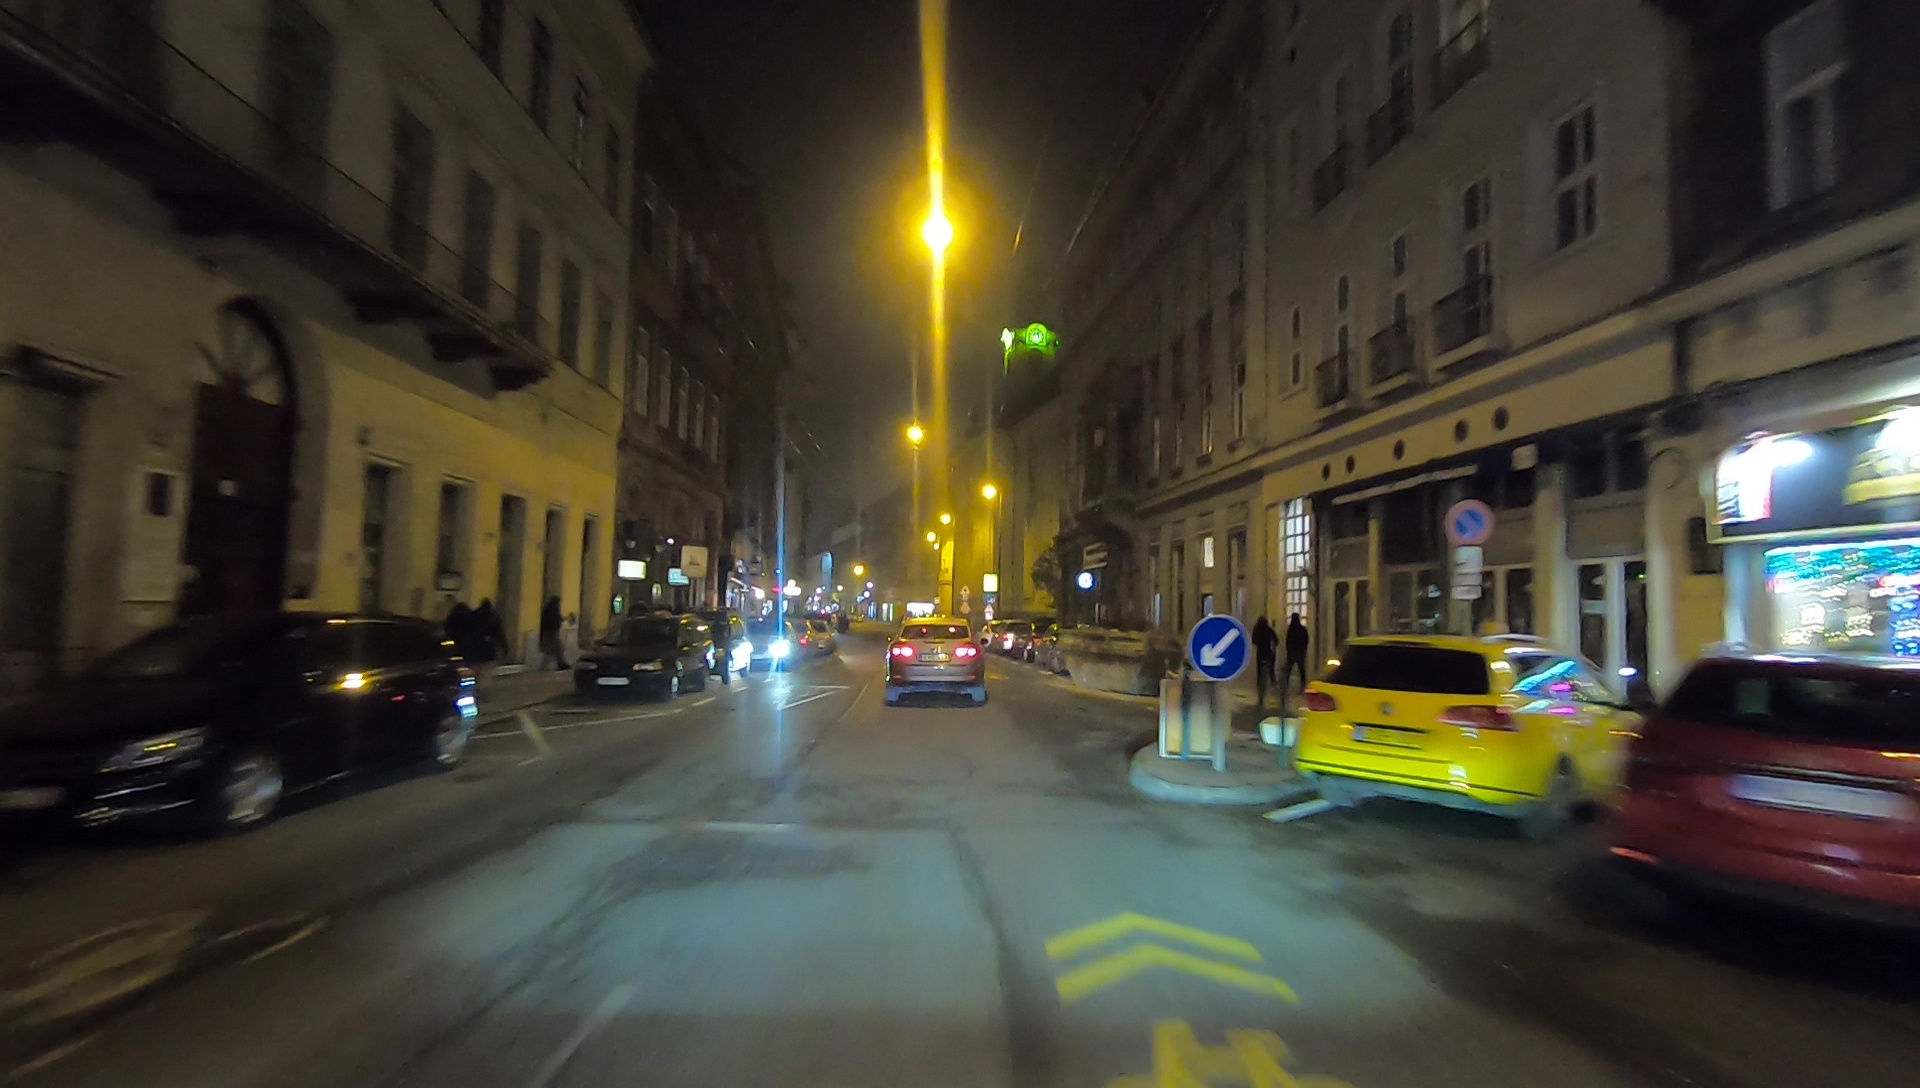person: (475, 599, 502, 689), (1251, 611, 1276, 704), (541, 593, 569, 676), (1286, 610, 1308, 684), (456, 602, 473, 693)
